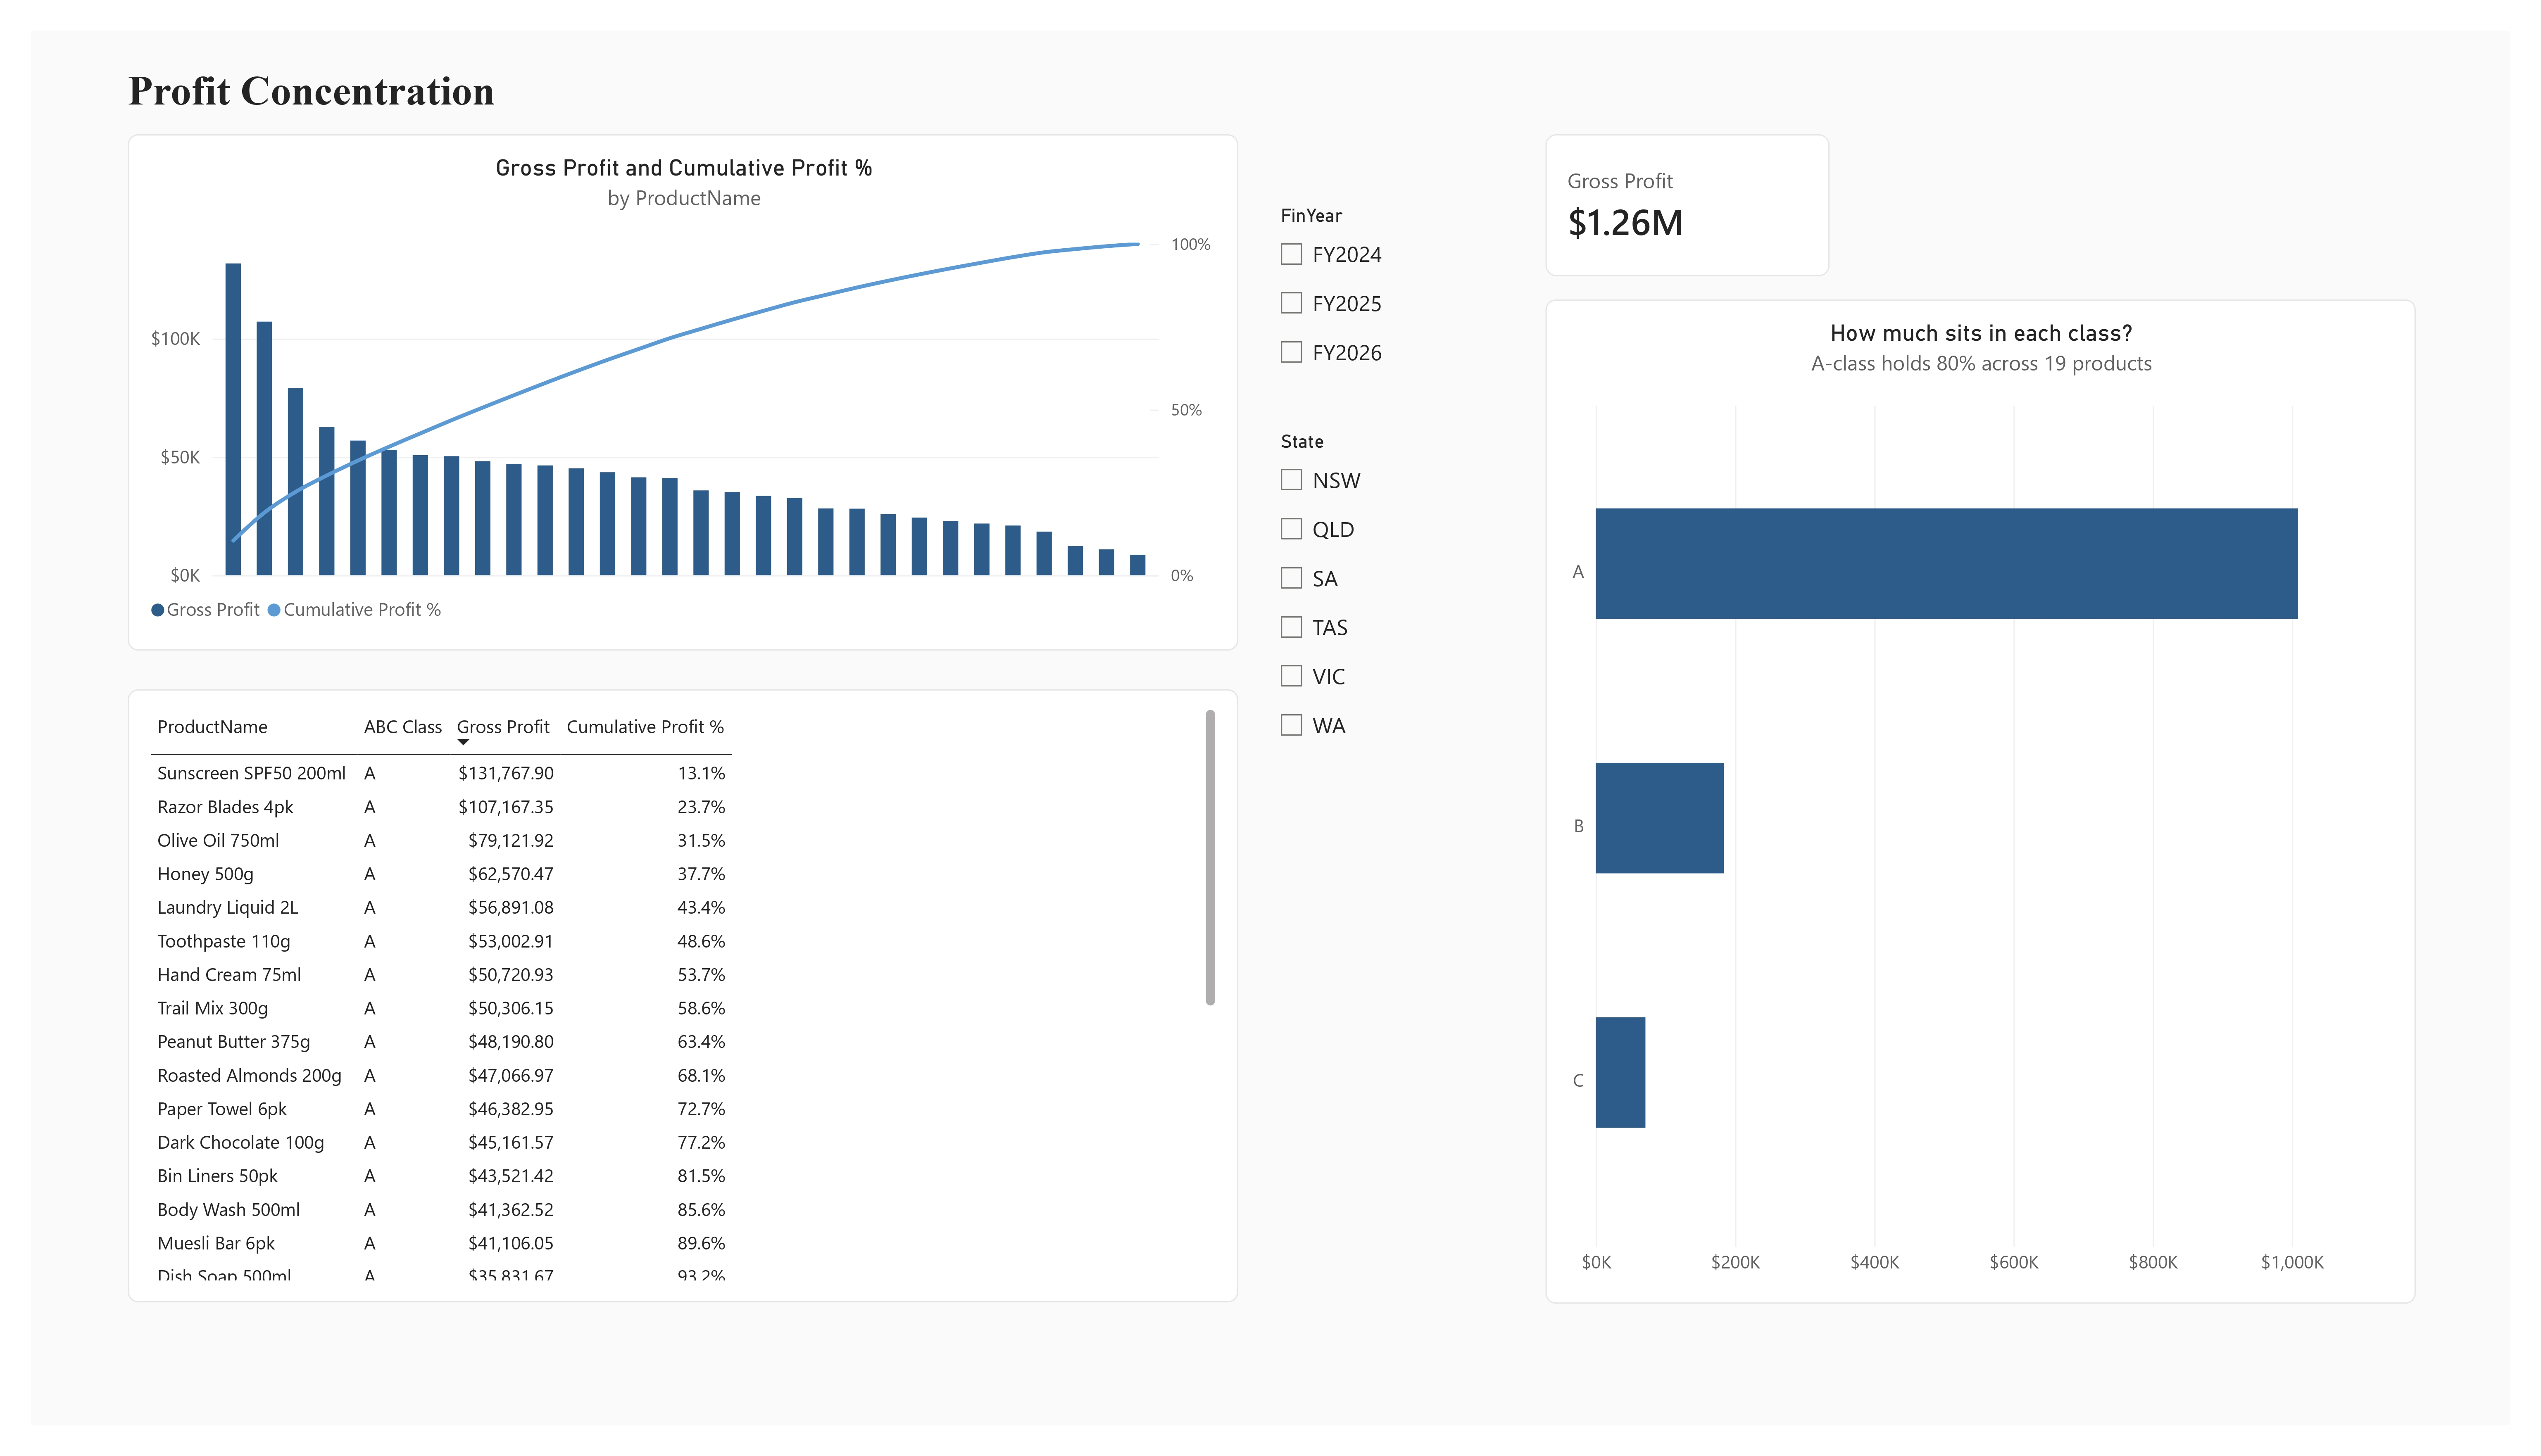

The page's visual inventory and layout, read from the dashboard file:
{"tool":"powerbi","page":{"name":"Profit Concentration","canvas":[1920,1080],"ordinal":1},"visuals":[{"type":"lineClusteredColumnComboChart","fields":{"Category":["DimProduct.ProductName"],"Y":["_Measures.Gross Profit"],"Y2":["_Measures.Cumulative Profit %"]},"box":[75,80,860,400],"z":0},{"type":"slicer","fields":{"Values":["DimDate.FinYear"]},"box":[960,135,111.7,145],"z":1000},{"type":"slicer","fields":{"Values":["DimCustomer.State"]},"box":[960,310,138.3,255],"z":2000},{"type":"textbox","box":[75,27.5,1185,52.5],"z":3000},{"type":"tableEx","fields":{"Values":["DimProduct.ProductName","DimProduct.ABC Class","_Measures.Gross Profit","_Measures.Cumulative Profit %"]},"box":[75,510,860,475],"z":4000},{"type":"cardVisual","fields":{"Data":["_Measures.Gross Profit"]},"box":[1172.5,80,220,110],"z":4001},{"type":"clusteredBarChart","title":"How much sits in each class?","fields":{"Category":["DimProduct.ABC Class"],"Y":["_Measures.Gross Profit"]},"box":[1172.5,207.5,674,778],"z":4002}]}

Visuals, with their boxes on the page's 1920x1080 design canvas (x1, y1, x2, y2). These are canvas units, not pixel positions in the 2541x1456 screenshot, which may show the page scaled, cropped or inside an application window:
lineClusteredColumnComboChart - DimProduct.ProductName x _Measures.Gross Profit: 75, 80, 935, 480
slicer - DimDate.FinYear: 960, 135, 1072, 280
slicer - DimCustomer.State: 960, 310, 1098, 565
textbox: 75, 28, 1260, 80
tableEx - DimProduct.ProductName x DimProduct.ABC Class: 75, 510, 935, 985
cardVisual - _Measures.Gross Profit: 1172, 80, 1392, 190
"How much sits in each class?" clusteredBarChart: 1172, 208, 1846, 986
